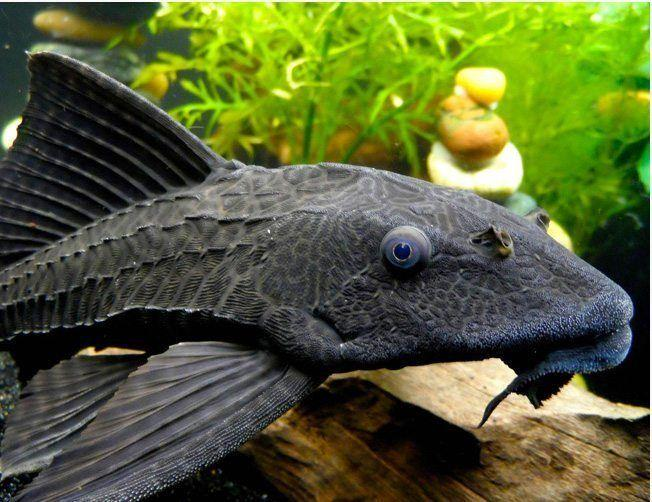Janitor Fish: (0, 42, 633, 502)
